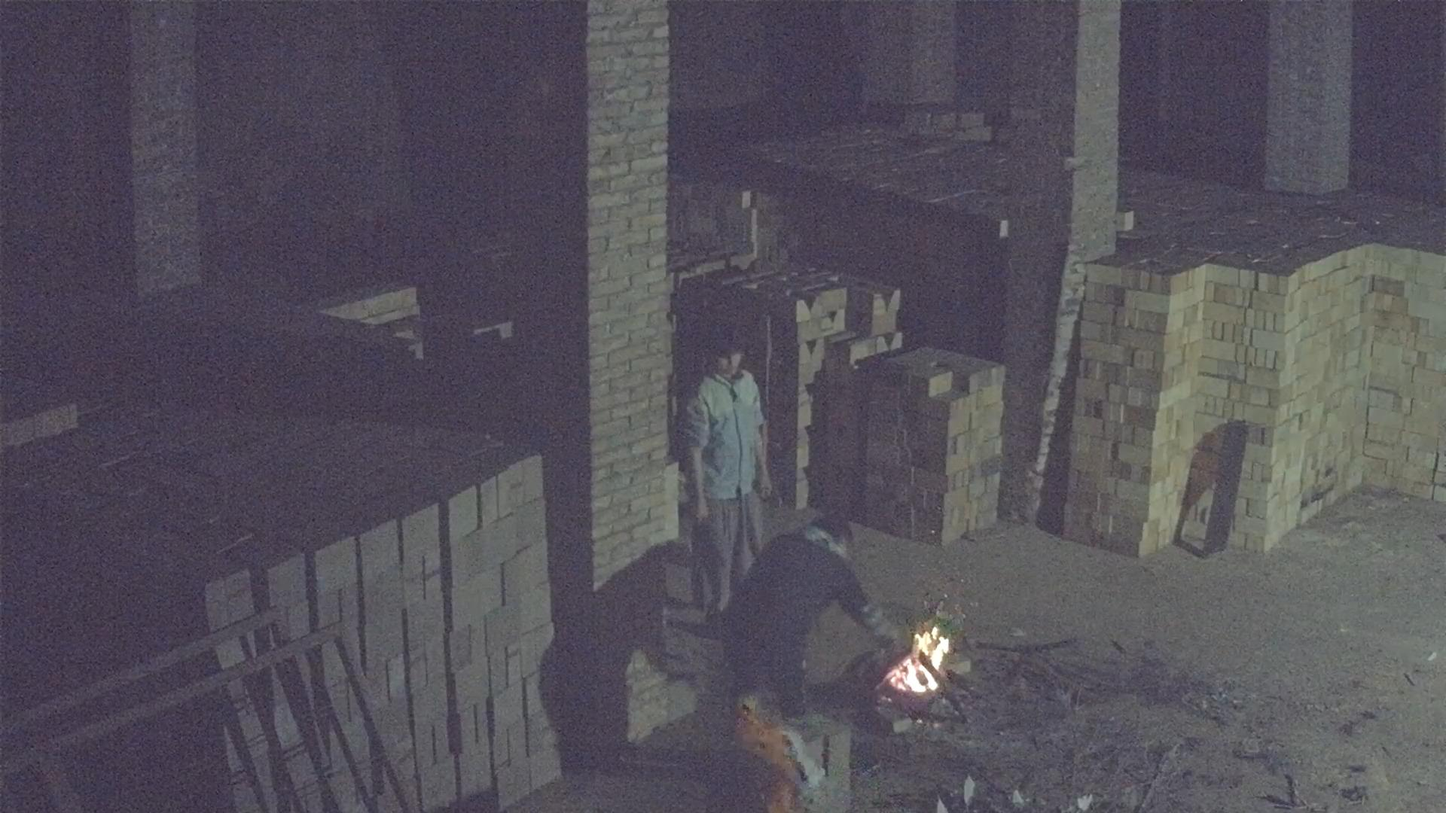fire: (884, 625, 951, 697)
